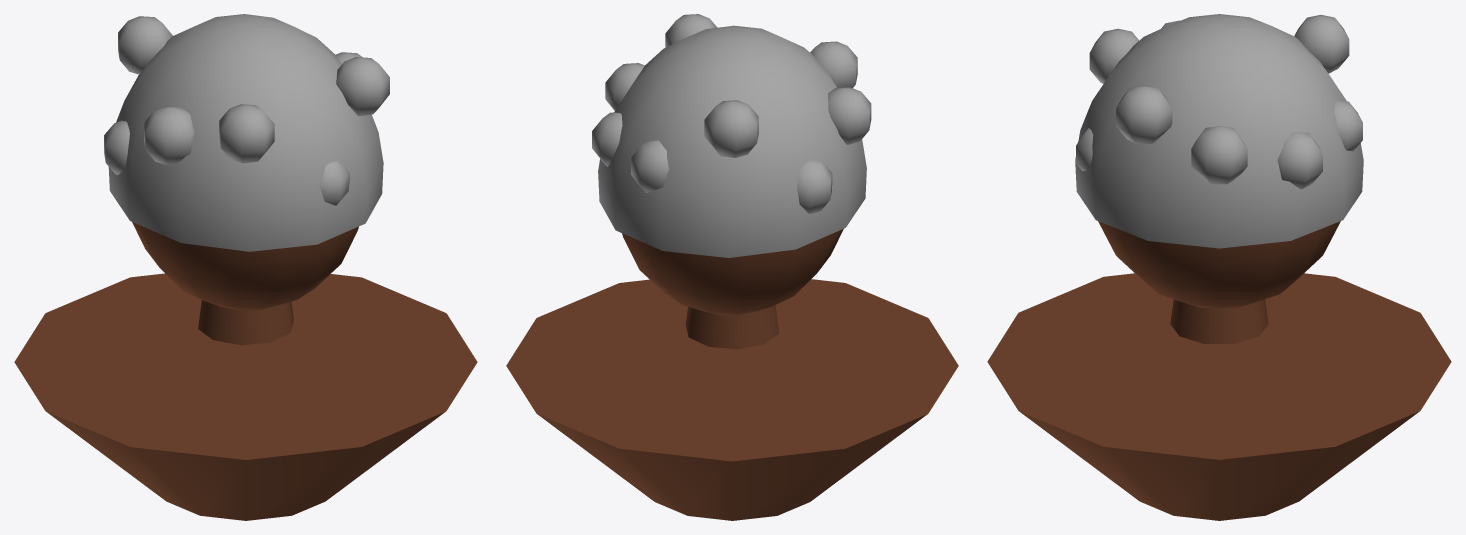
File: raw_002.glb
The picture shows the model from 3 angles, left to right: view 1: azimuth 30°, elevation 25°; view 2: azimuth 150°, elevation 25°; view 3: azimuth 270°, elevation 25°; orthographic projection. The views are drawn at different scales.
Size of the model in its own units: 1.98 by 2.15 by 1.98.
